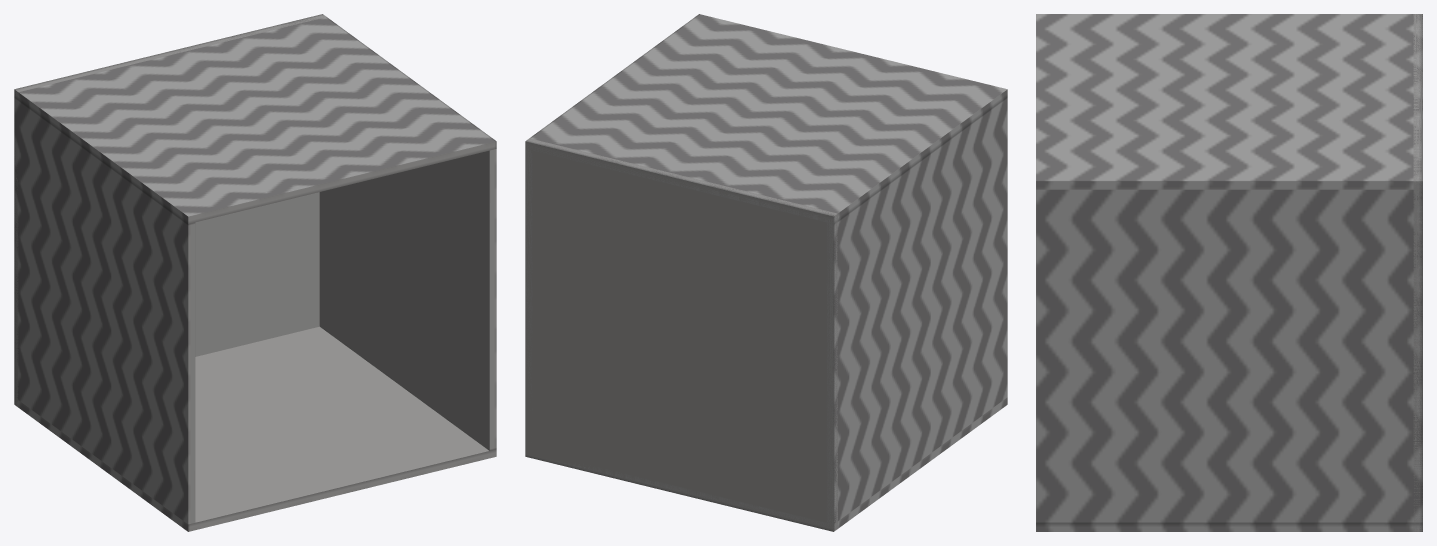
3 views of the same model, side by side, from view 1: azimuth 30°, elevation 25°; view 2: azimuth 150°, elevation 25°; view 3: azimuth 270°, elevation 25° (orthographic). The views are drawn at different scales.
Parts seen in each view (by area): view 1: geometry_0; view 2: geometry_0; view 3: geometry_0.
Part boxes in pixels (bbox=[...]): geometry_0: bbox=[14, 14, 496, 531]; geometry_0: bbox=[525, 14, 1007, 531]; geometry_0: bbox=[1036, 14, 1422, 531].
Size of the model in its own units: 0.056 by 0.0547 by 0.0547.
1 material, 1 textured.
